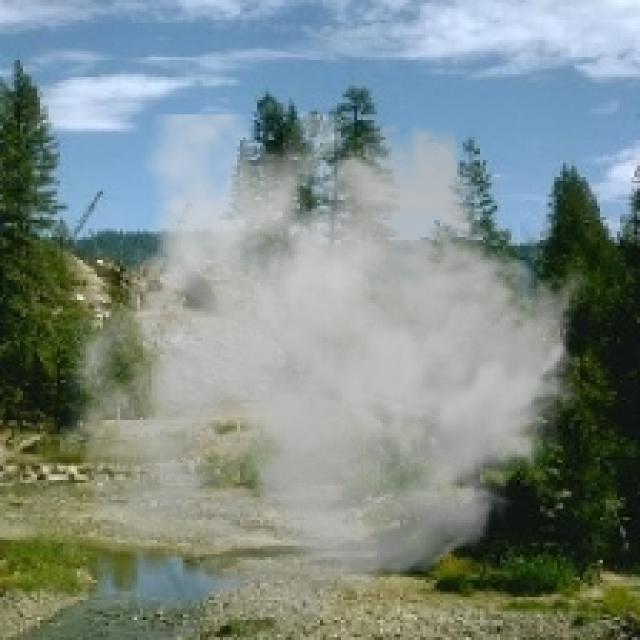smoke: (51, 114, 592, 632)
